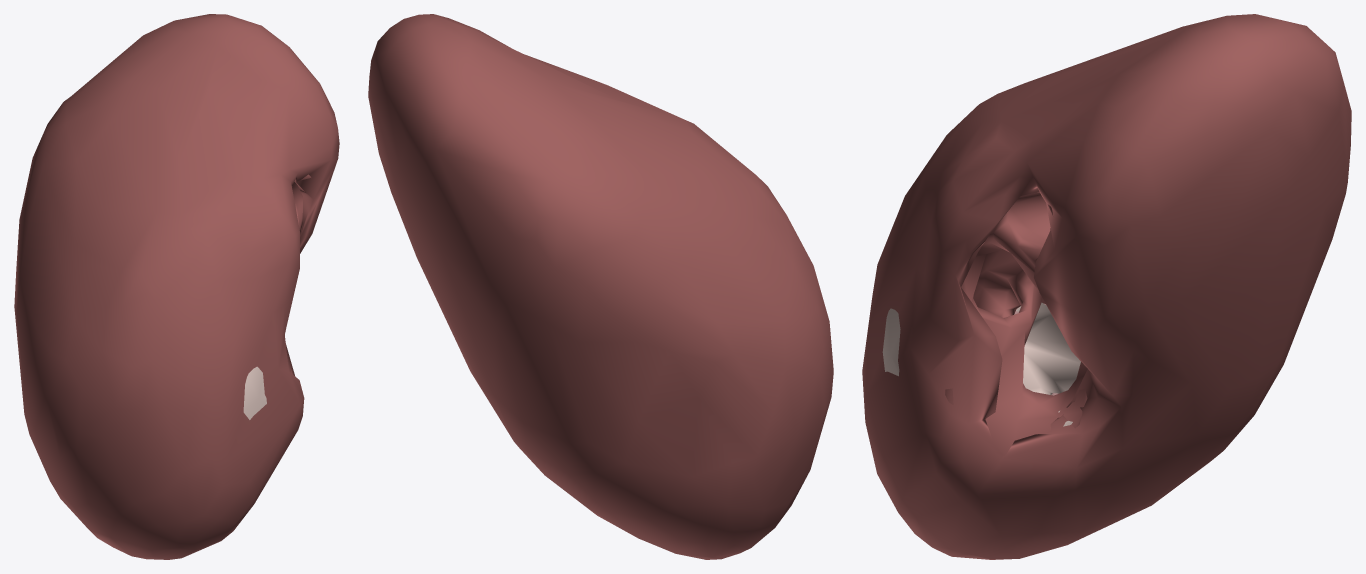
The model's file is kidney_r.glb.
3 views of the same model, side by side, from view 1: azimuth 30°, elevation 25°; view 2: azimuth 150°, elevation 25°; view 3: azimuth 270°, elevation 25° (orthographic). The views are drawn at different scales.
Parts seen in each view (by area): view 1: VH_F_kidney_capsule_R, VH_F_outer_cortex_of_kidney_R; view 2: VH_F_kidney_capsule_R; view 3: VH_F_kidney_capsule_R, VH_F_hilum_of_kidney_R, VH_F_renal_column_R, VH_F_outer_cortex_of_kidney_R.
Part boxes in pixels (bbox=[...]): VH_F_kidney_capsule_R: bbox=[14, 14, 339, 559]; VH_F_outer_cortex_of_kidney_R: bbox=[243, 366, 266, 419]; VH_F_kidney_capsule_R: bbox=[368, 14, 833, 559]; VH_F_kidney_capsule_R: bbox=[862, 14, 1351, 559]; VH_F_hilum_of_kidney_R: bbox=[945, 188, 1087, 455]; VH_F_renal_column_R: bbox=[1016, 302, 1080, 394]; VH_F_outer_cortex_of_kidney_R: bbox=[882, 308, 1072, 426].
Size of the model in its own units: 0.0733 by 0.0978 by 0.0694.
